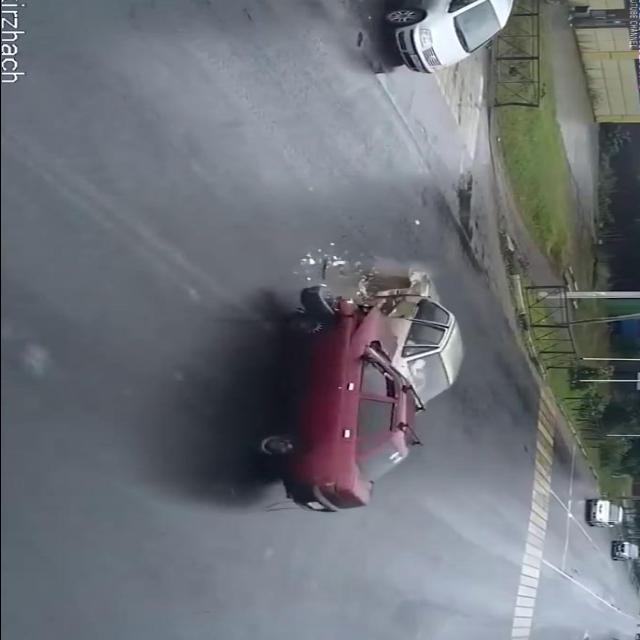accident: (230, 233, 478, 521)
